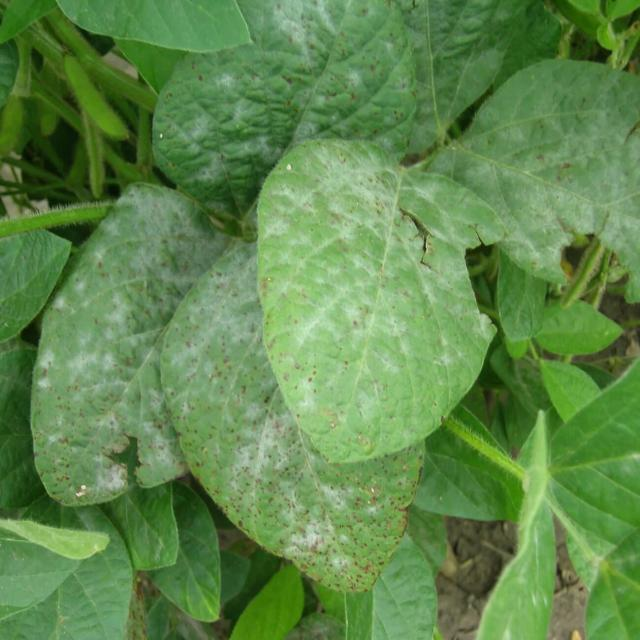Powdery Mildew: (157, 236, 425, 594), (255, 136, 499, 466), (28, 180, 232, 508)
